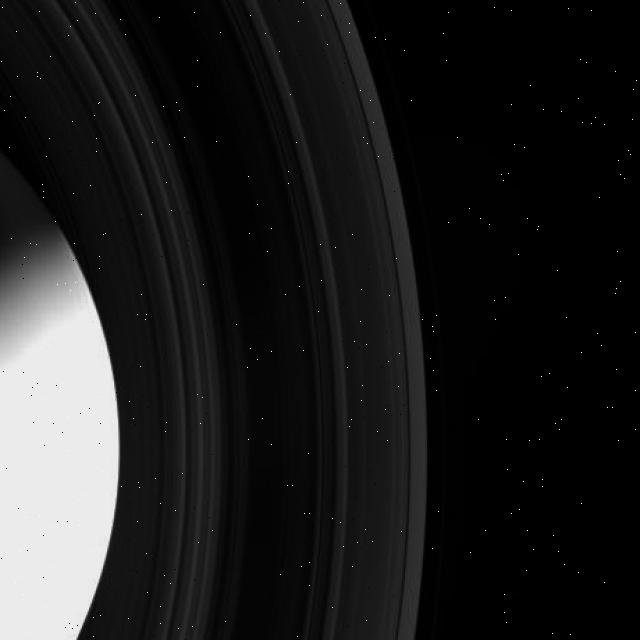Saturn: (0, 0, 451, 640)
